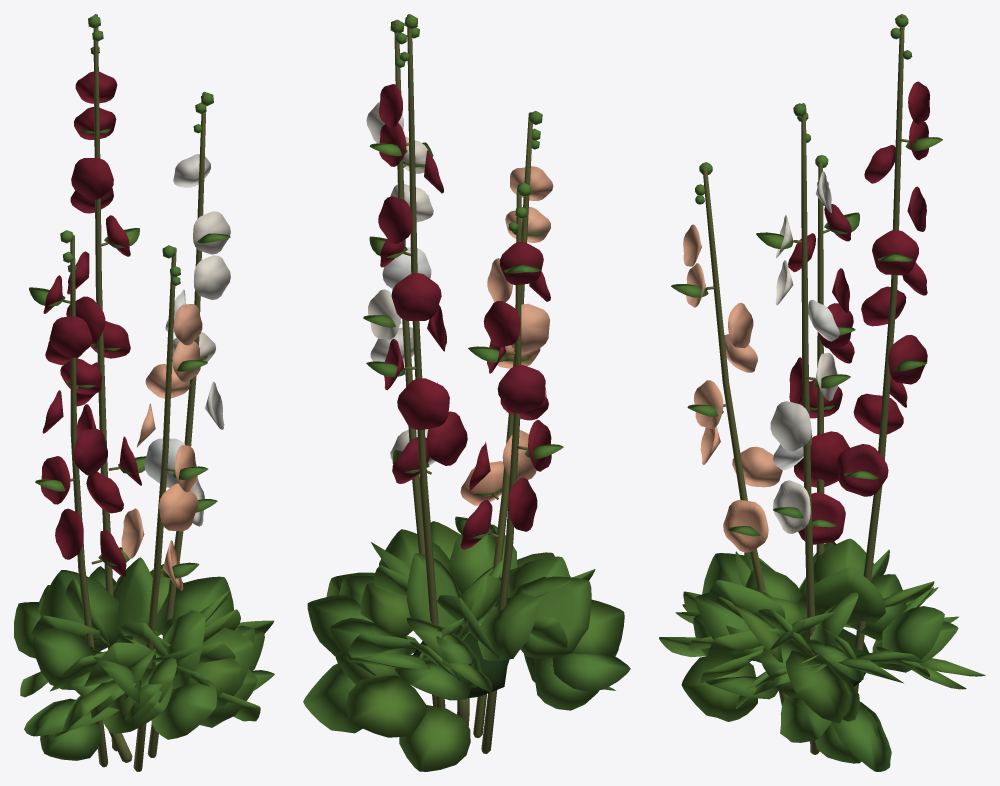
Rendered from bed_hollyhock_mixed.glb.
3 renders of one model, left to right at view 1: azimuth 30°, elevation 25°; view 2: azimuth 150°, elevation 25°; view 3: azimuth 270°, elevation 25°, orthographic. The views are drawn at different scales.
Visible parts, largest first — view 1: Sammel Pflanze, Sammel Putz; view 2: Sammel Pflanze, Sammel Putz, Sammel Blatt; view 3: Sammel Pflanze, Sammel Putz.
Part boxes in pixels (x1,y1,x2,y2): Sammel Pflanze: (14, 15, 274, 760); Sammel Putz: (63, 14, 206, 771); Sammel Pflanze: (303, 14, 630, 771); Sammel Putz: (394, 14, 532, 753); Sammel Blatt: (413, 633, 509, 698); Sammel Pflanze: (659, 14, 985, 771); Sammel Putz: (702, 14, 908, 754).
Size of the model in its own units: 0.566 by 1.49 by 0.5997.
